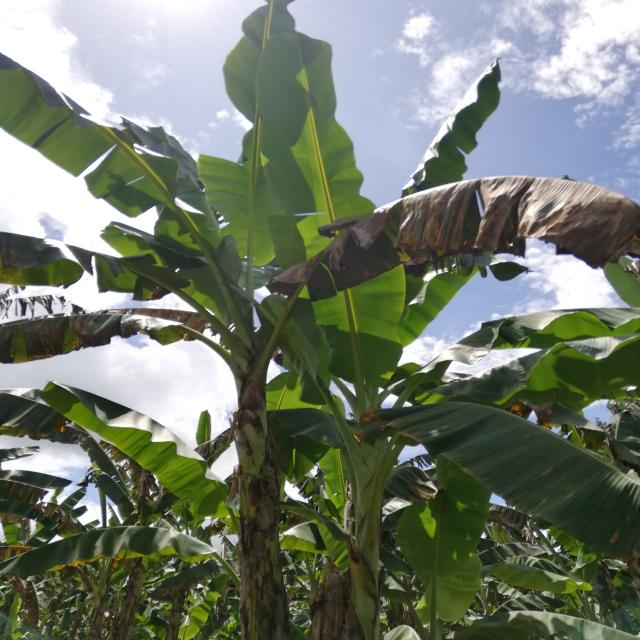Banana-plant: (207, 286, 293, 640), (321, 375, 406, 640)
